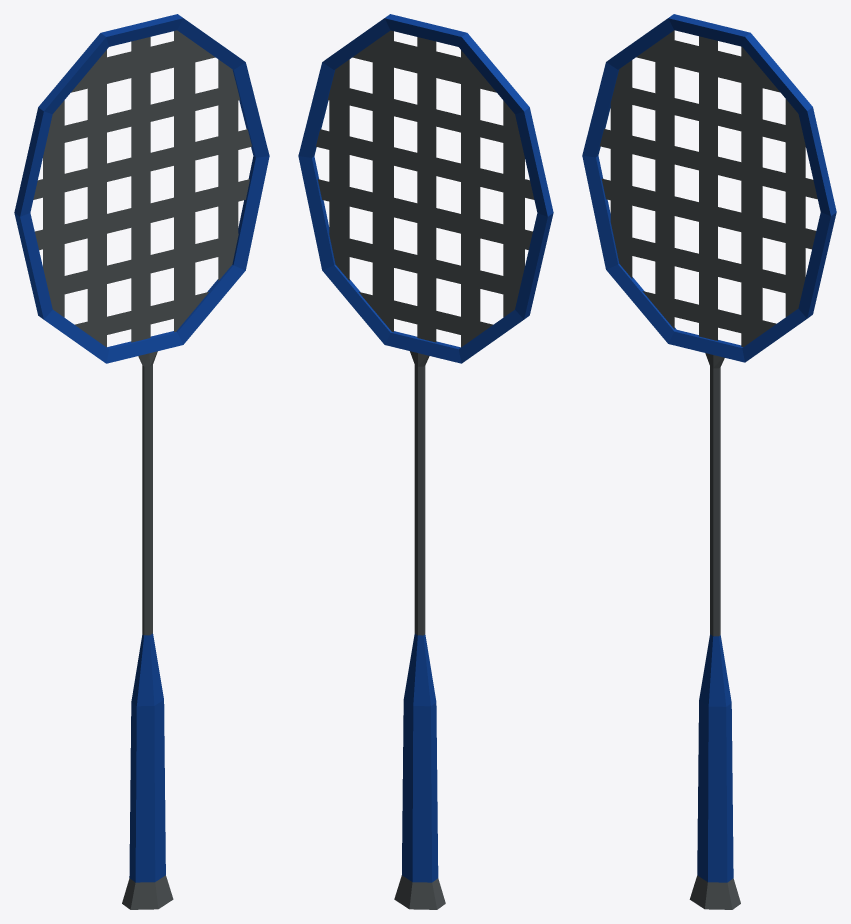
The model's file is Badminton_racket_blue.fbx.
3 views of the same model, side by side, from view 1: azimuth 30°, elevation 25°; view 2: azimuth 150°, elevation 25°; view 3: azimuth 330°, elevation 25° (orthographic).
Parts seen in each view (by area): view 1: Badminton_racket_blue; view 2: Badminton_racket_blue; view 3: Badminton_racket_blue.
Boxes of the visible parts, box(x1,y1,x2,y2) form: Badminton_racket_blue: box(14, 14, 269, 909); Badminton_racket_blue: box(298, 14, 553, 909); Badminton_racket_blue: box(582, 14, 836, 909).
Bounding box in the file's own units: 26.05 × 87.53 × 3.86.
